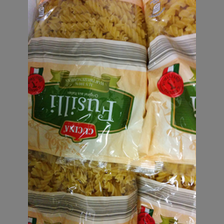pasta: (28, 1, 147, 223), (140, 1, 197, 224)
